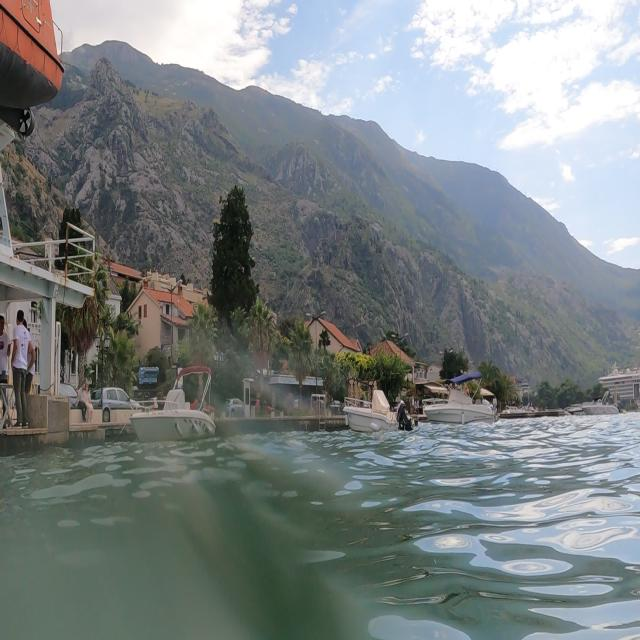boat: (128, 361, 218, 445), (420, 362, 500, 437), (339, 376, 418, 444), (602, 363, 640, 409), (501, 388, 544, 423)
